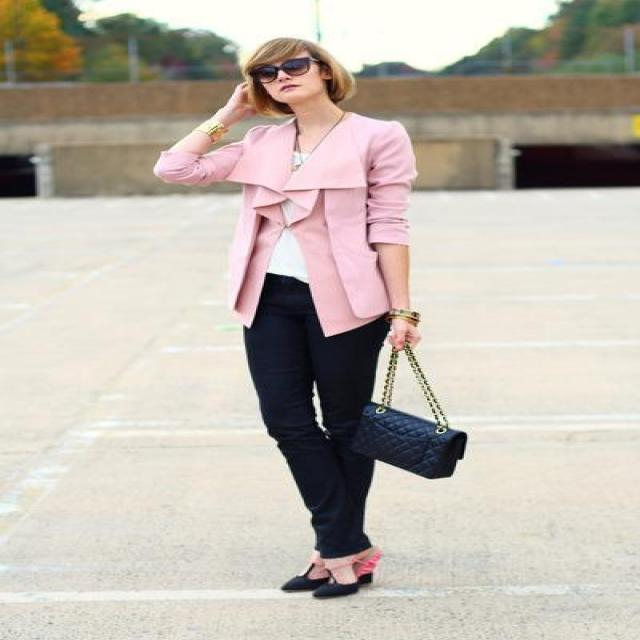bag: (352, 331, 466, 478)
jacket: (149, 115, 421, 336), (366, 219, 376, 241)
pants: (243, 273, 389, 558)
shirt: (256, 118, 328, 286)
shoe: (288, 564, 373, 598)
sunglass: (250, 60, 296, 88)
